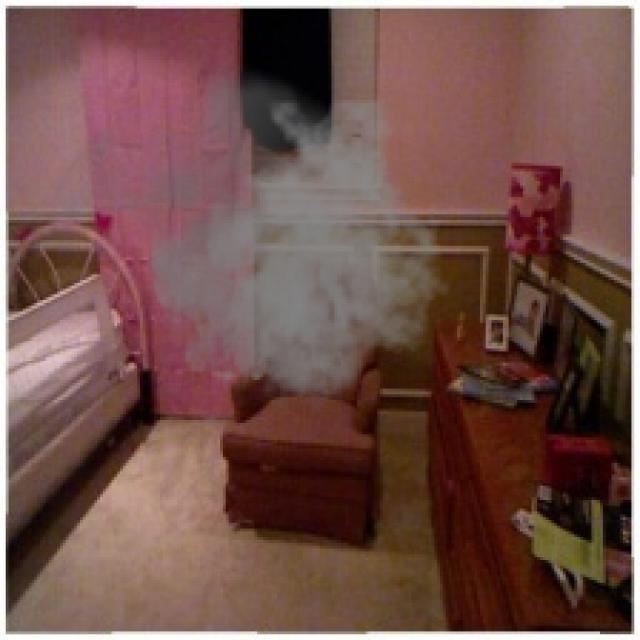Smoke: (42, 57, 452, 423)
